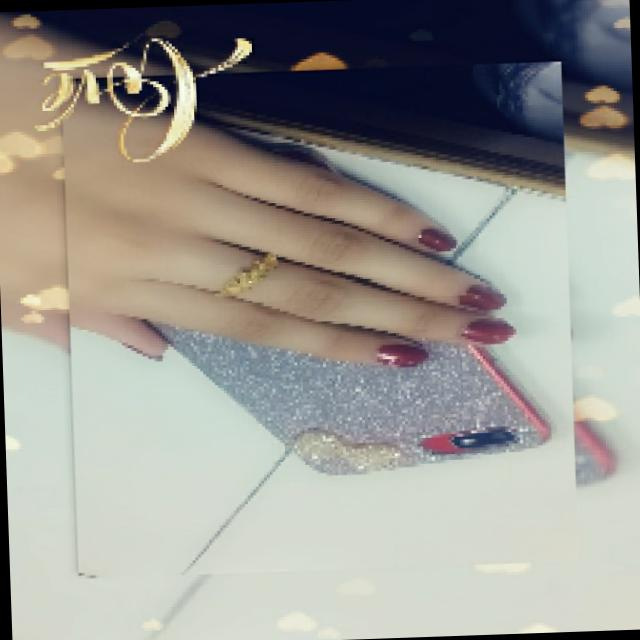Nail: (461, 318, 513, 343), (458, 284, 504, 311), (375, 342, 426, 366), (417, 228, 455, 249)
